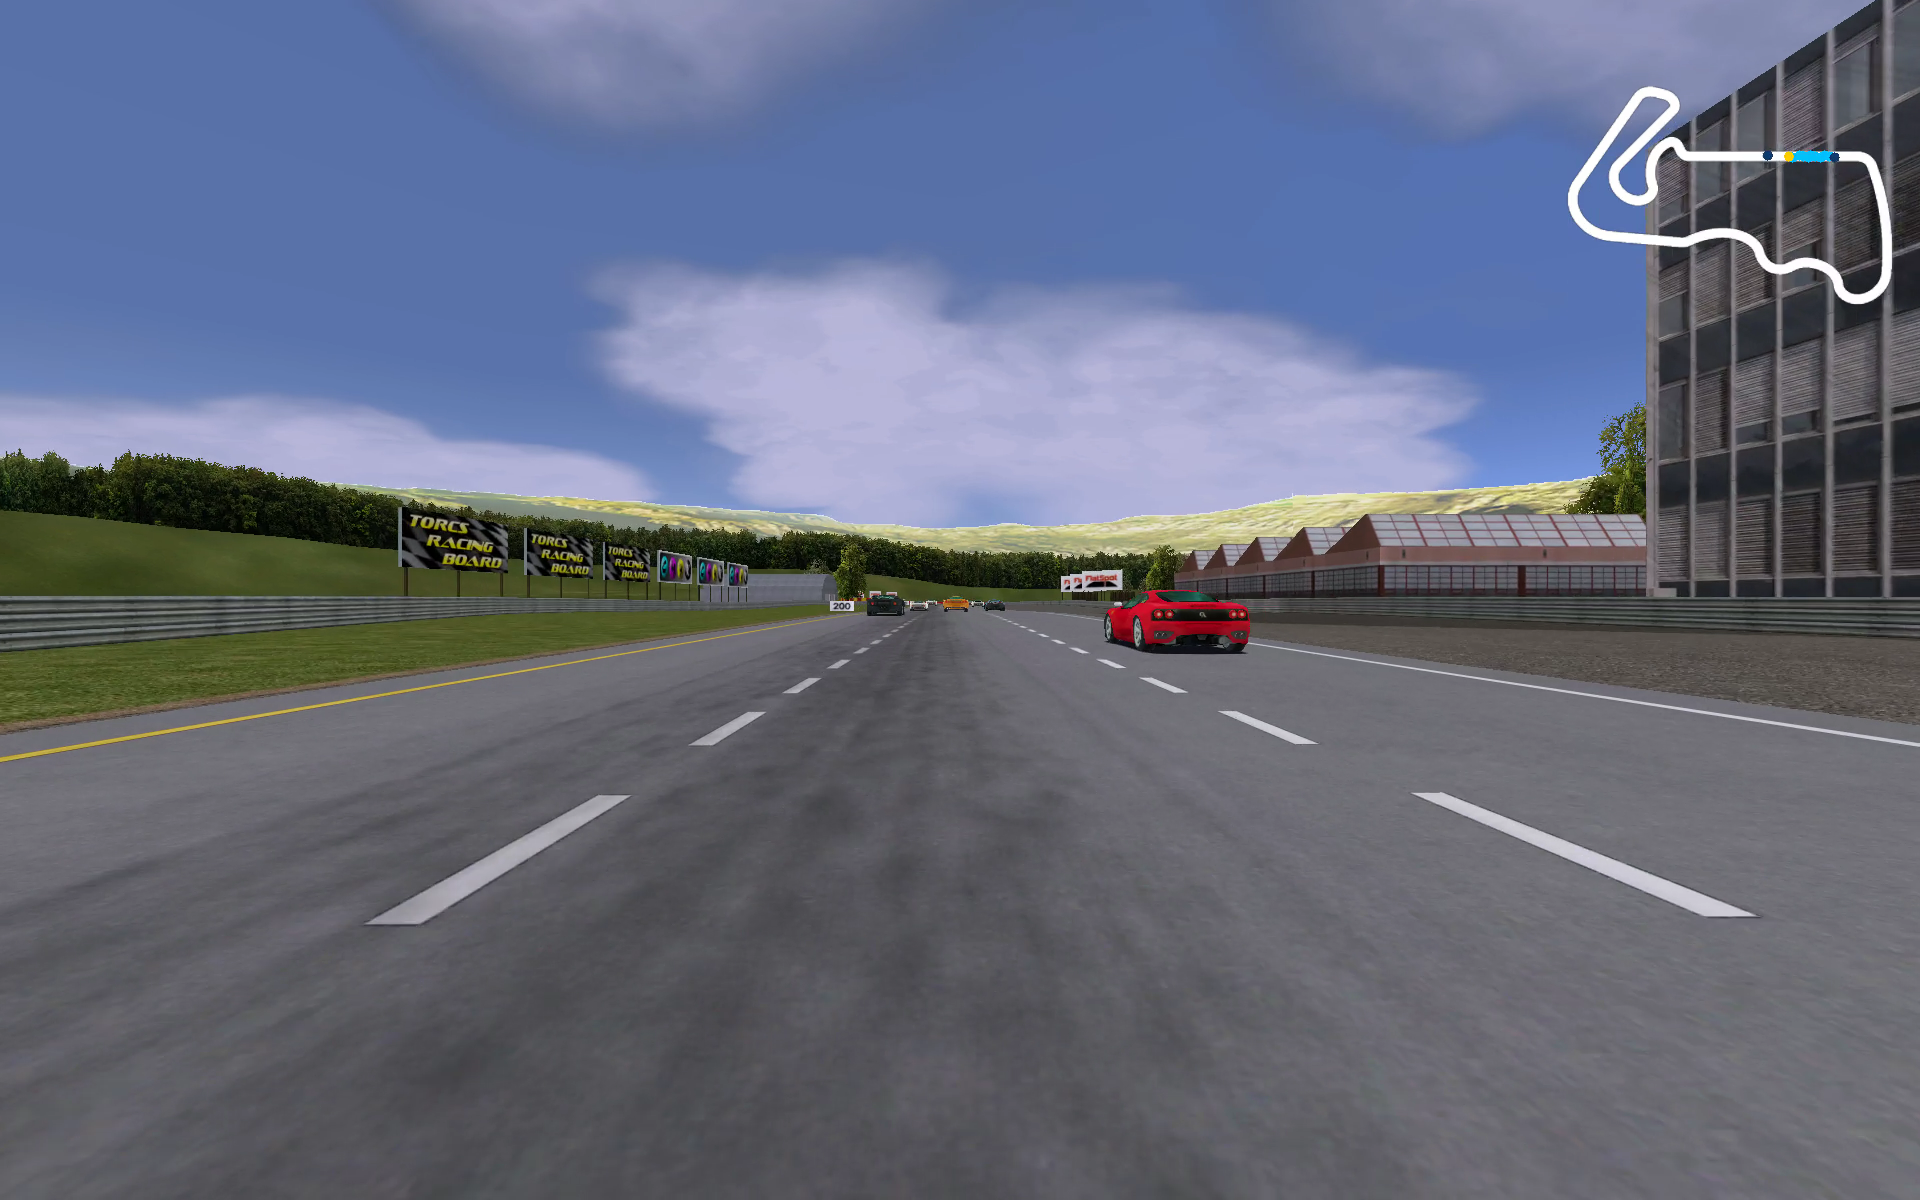car: (1098, 583, 1257, 657), (863, 594, 904, 612), (943, 594, 973, 612), (984, 597, 1010, 612), (911, 599, 932, 615)
